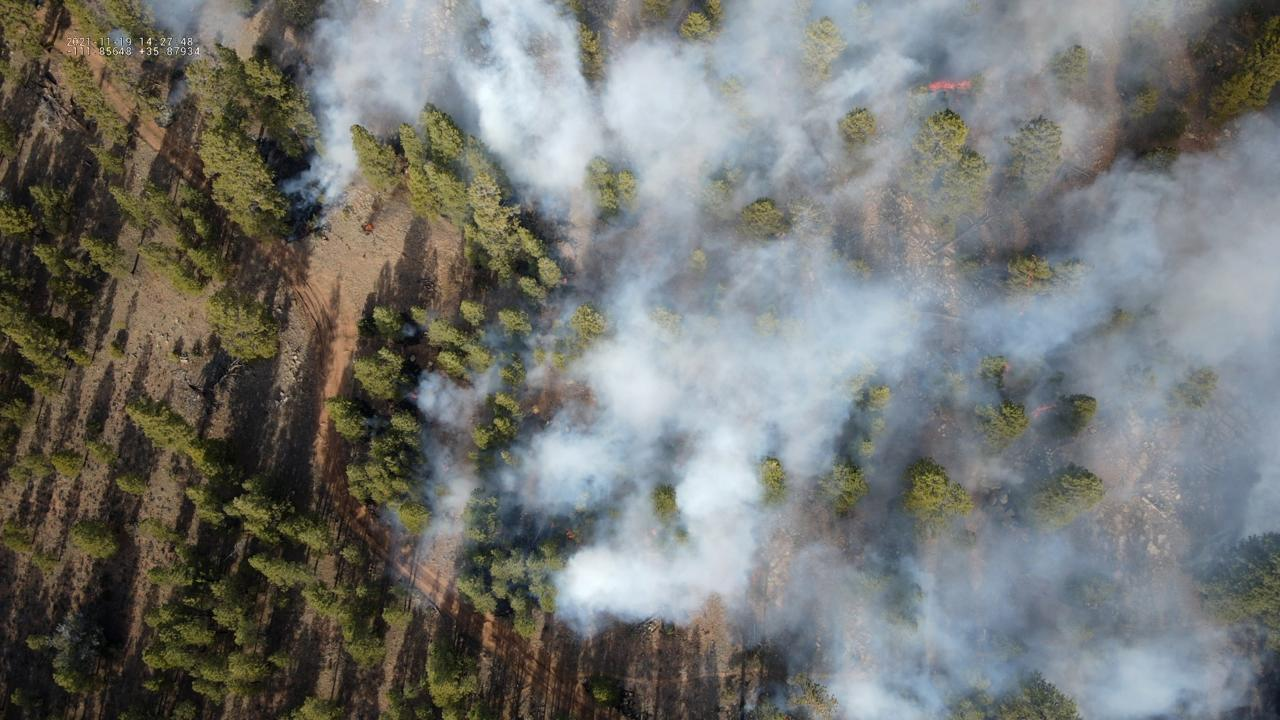fire: (927, 78, 972, 97), (1029, 404, 1051, 419), (565, 527, 575, 539), (364, 222, 373, 233), (561, 276, 568, 286)
smoke: (275, 0, 1280, 720), (106, 0, 248, 106)
